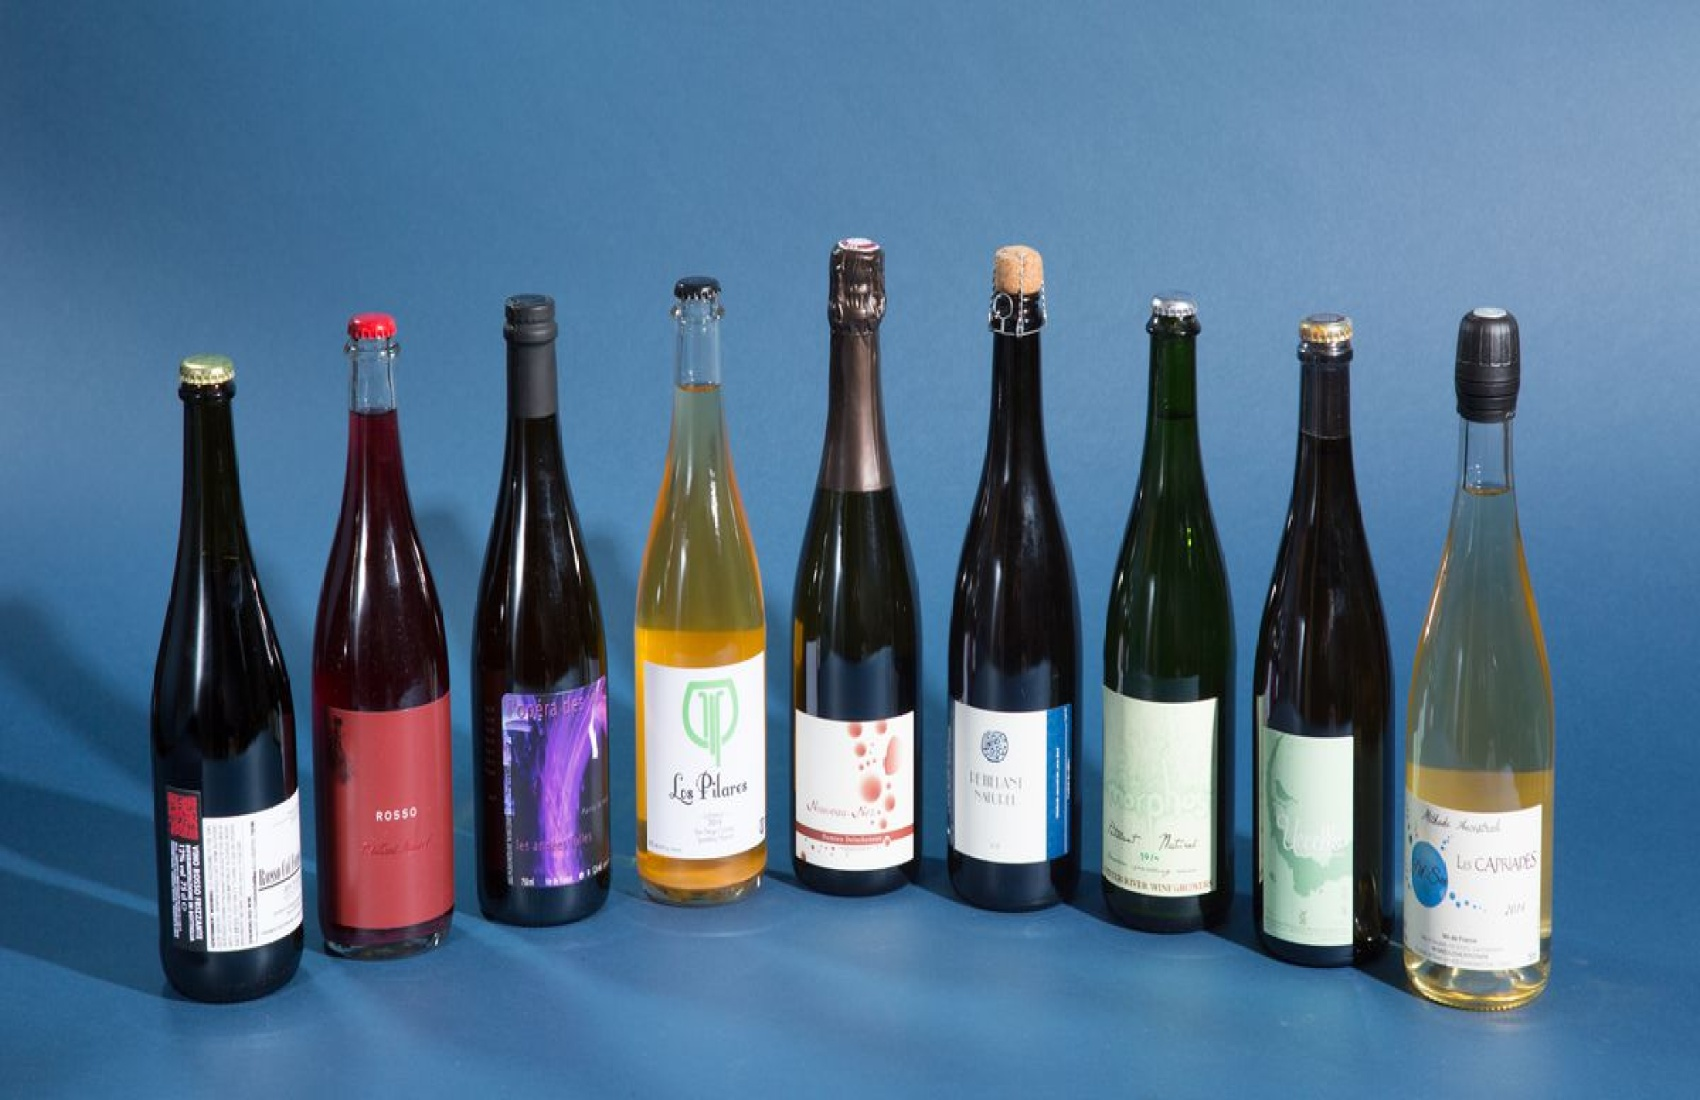wine: (1408, 310, 1559, 1003), (943, 251, 1085, 914), (317, 300, 458, 958), (629, 271, 774, 896), (152, 365, 294, 1003), (1100, 273, 1237, 929), (1256, 325, 1393, 959), (795, 238, 924, 892), (480, 290, 611, 929)
